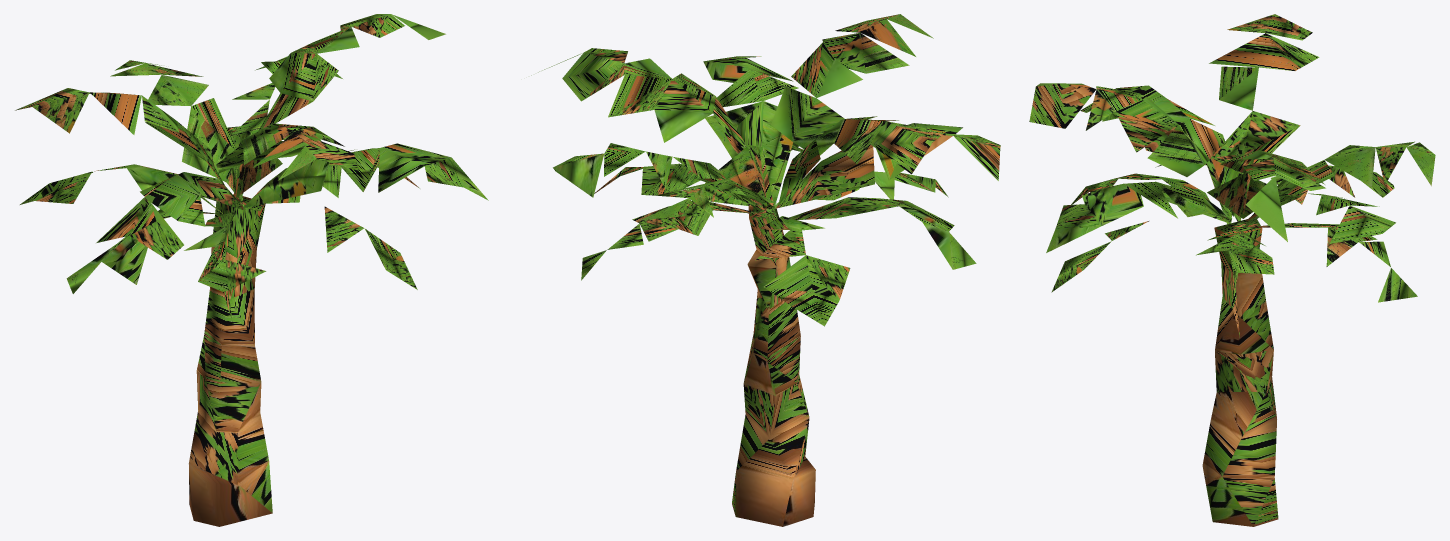
The model's file is palm-far.glb.
The picture shows the model from 3 angles, left to right: view 1: azimuth 30°, elevation 25°; view 2: azimuth 150°, elevation 25°; view 3: azimuth 270°, elevation 25°; orthographic projection. The views are drawn at different scales.
Visible parts, largest first — view 1: geometry_0; view 2: geometry_0; view 3: geometry_0.
Boxes of the visible parts, bbox=[...] form: geometry_0: bbox=[15, 14, 488, 526]; geometry_0: bbox=[531, 14, 1000, 526]; geometry_0: bbox=[1029, 14, 1435, 526].
Size of the model in its own units: 0.8477 by 0.8428 by 0.7412.
1 material, 1 textured.
